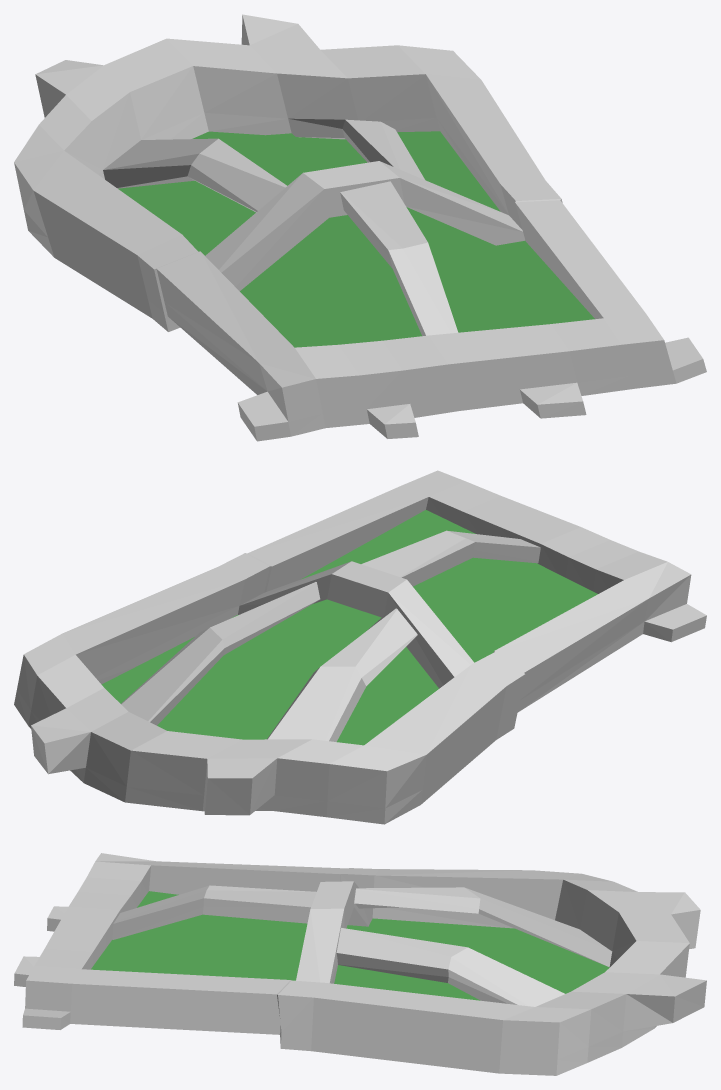
The model's file is WitchWindow_CeilingPortal.fbx.
3 renders of one model, top to bottom at view 1: azimuth 30°, elevation 25°; view 2: azimuth 150°, elevation 25°; view 3: azimuth 270°, elevation 25°, orthographic. The views are drawn at different scales.
Visible parts, largest first — view 1: WitchWindow_Frame, WitchWindow_Portal; view 2: WitchWindow_Frame, WitchWindow_Portal; view 3: WitchWindow_Frame, WitchWindow_Portal.
Boxes of the visible parts, left/top/right/bottom form: WitchWindow_Frame: left=14, top=14, right=706, bottom=441; WitchWindow_Portal: left=118, top=131, right=594, bottom=347; WitchWindow_Frame: left=14, top=470, right=706, bottom=824; WitchWindow_Portal: left=101, top=510, right=597, bottom=745; WitchWindow_Frame: left=14, top=853, right=706, bottom=1075; WitchWindow_Portal: left=91, top=891, right=609, bottom=1000.
Size of the model in its own units: 131 by 32.06 by 200.
